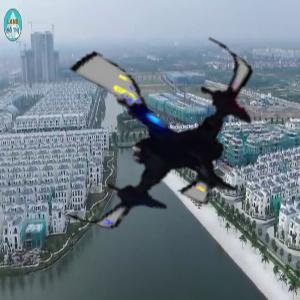drone: (31, 13, 271, 253)
